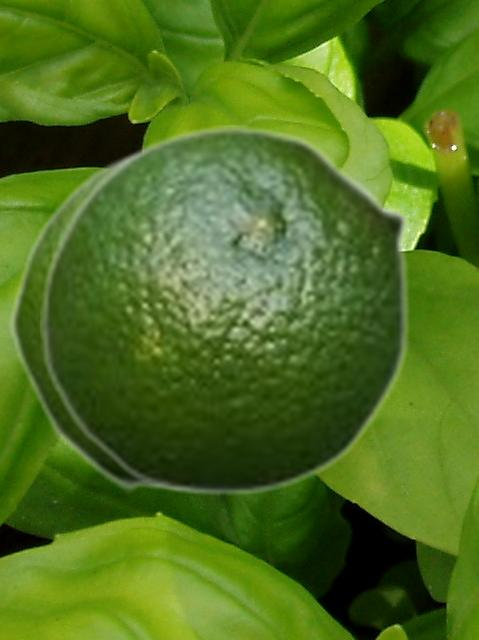calamansi: (40, 125, 411, 496), (8, 142, 174, 492)
